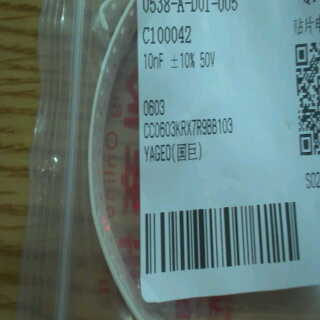10nF: (142, 50, 167, 74)
